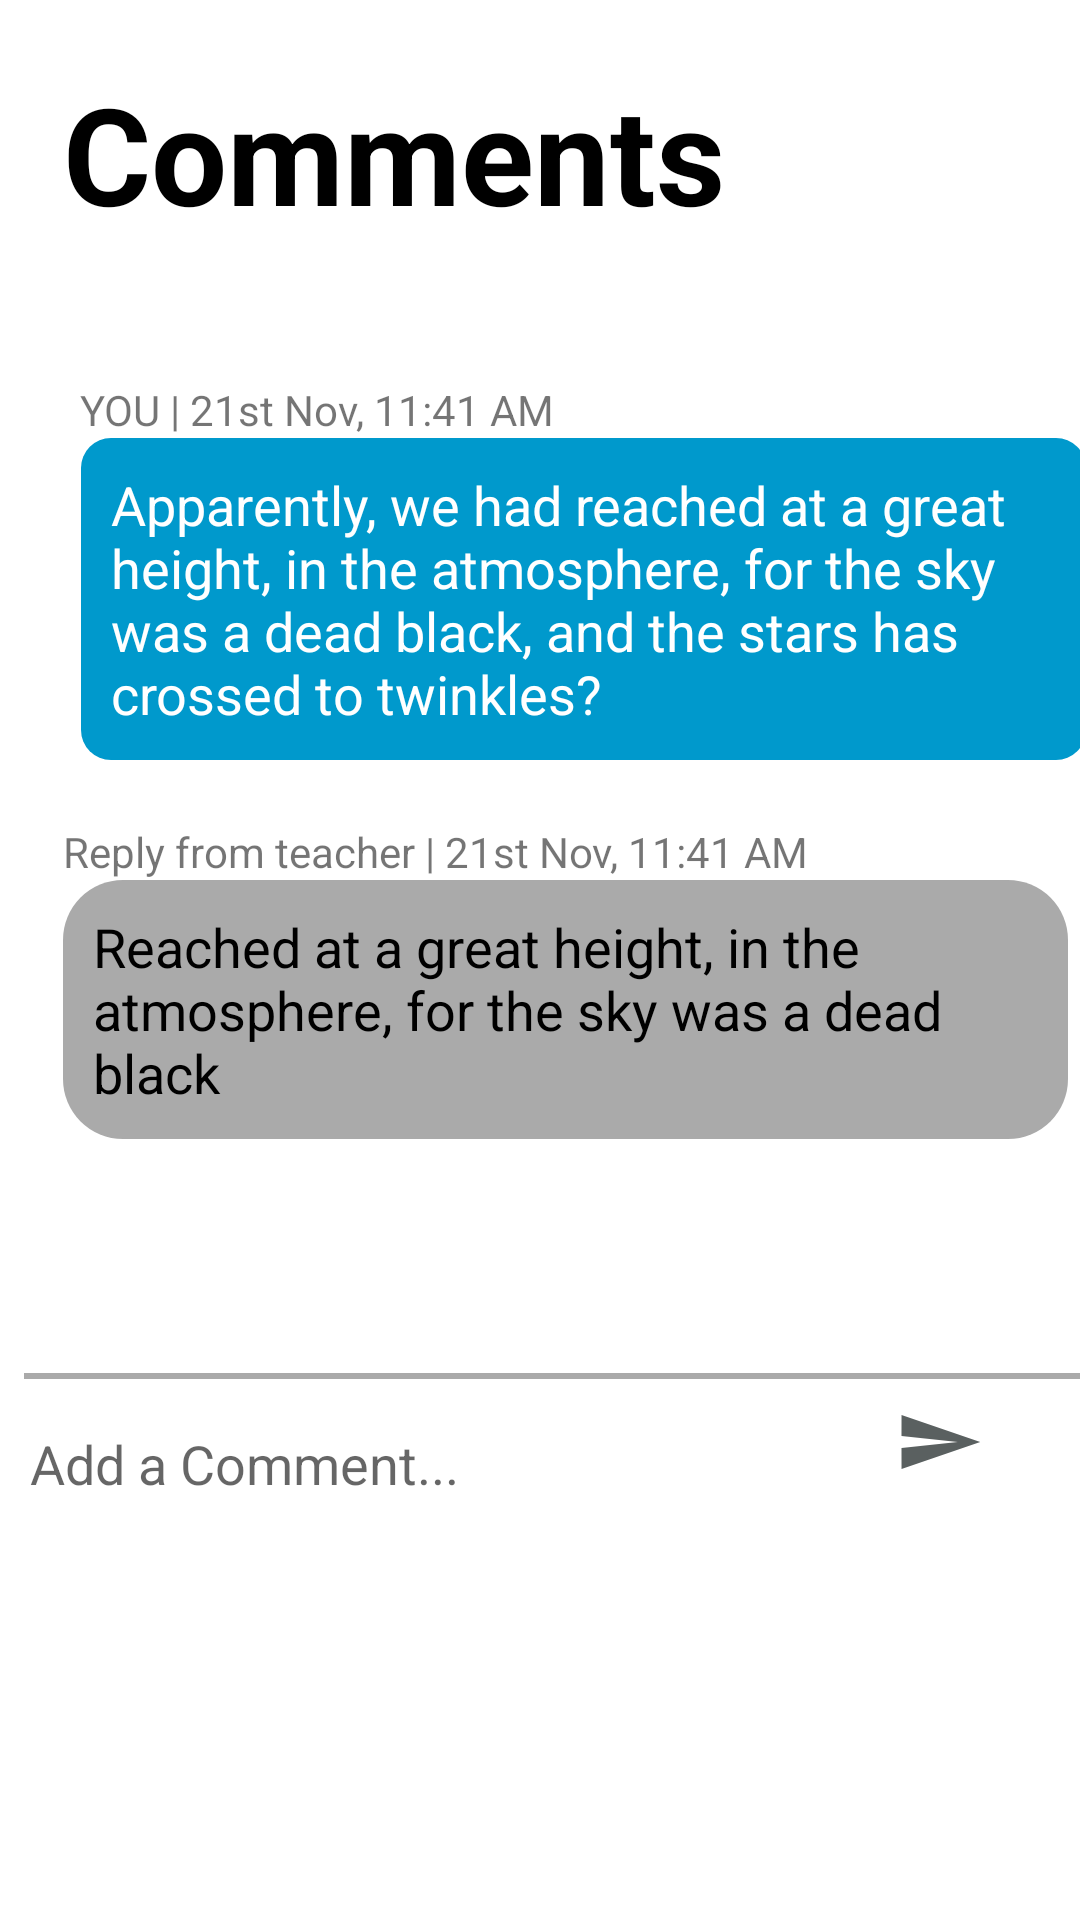

Where to tap for icons on this 1080w x 1920h app screen, as (x=x, y=y):
send: (x=940, y=1442)
